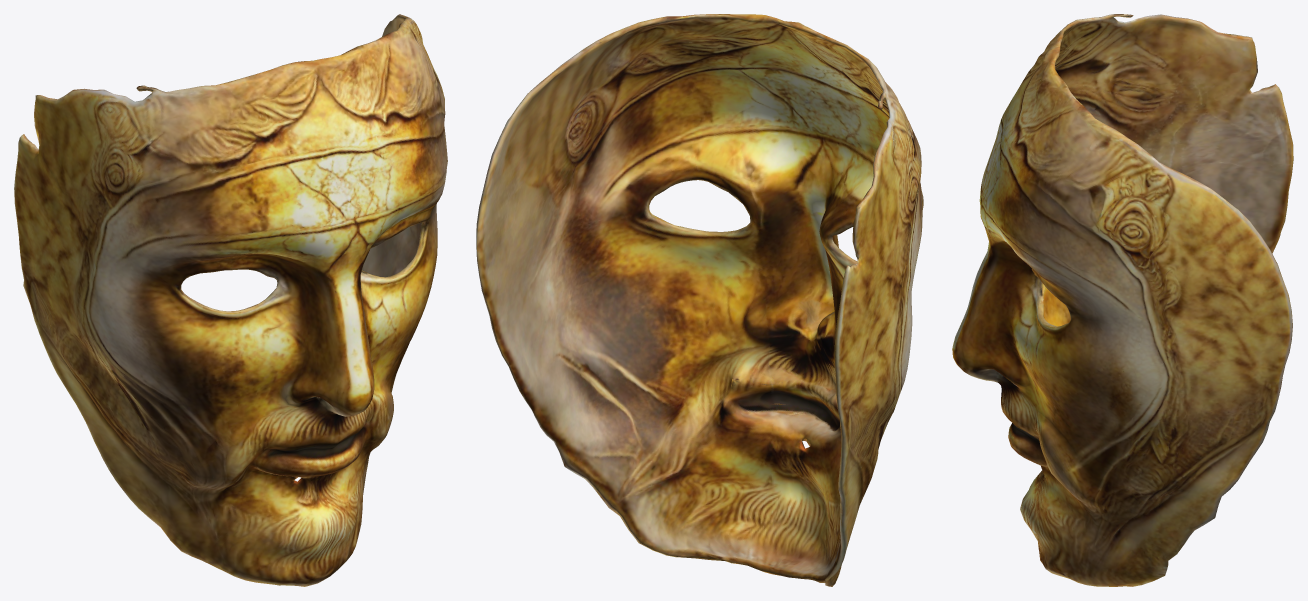
File: head.glb
3 renders of one model, left to right at view 1: azimuth 30°, elevation 25°; view 2: azimuth 150°, elevation 25°; view 3: azimuth 270°, elevation 25°, orthographic. The views are drawn at different scales.
Size of the model in its own units: 1.42 by 1.99 by 1.19.
1 material, 1 textured.
